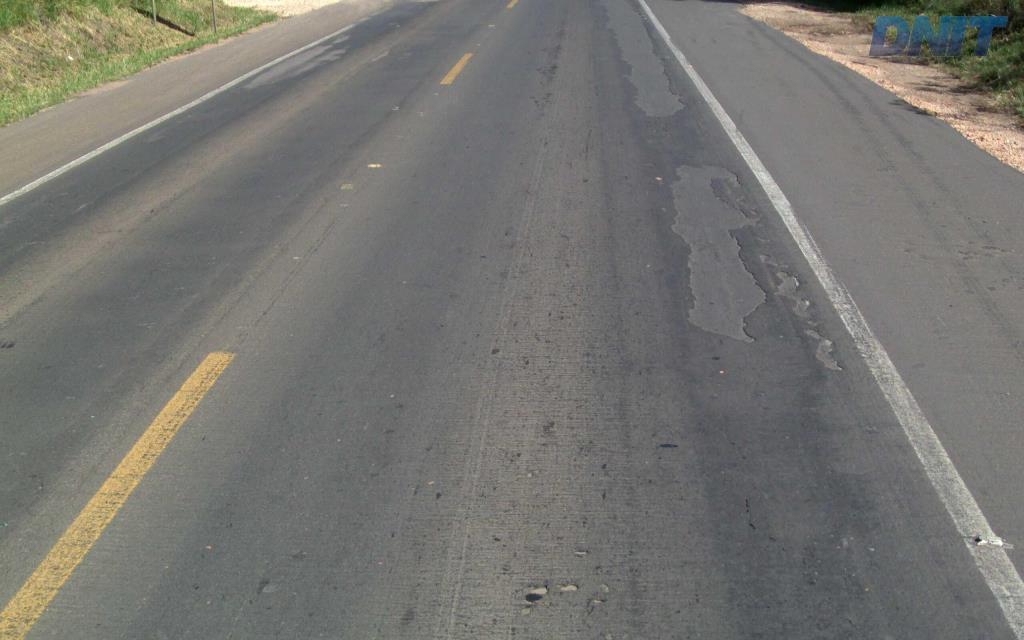pothole: (662, 152, 844, 379), (589, 0, 688, 120)
